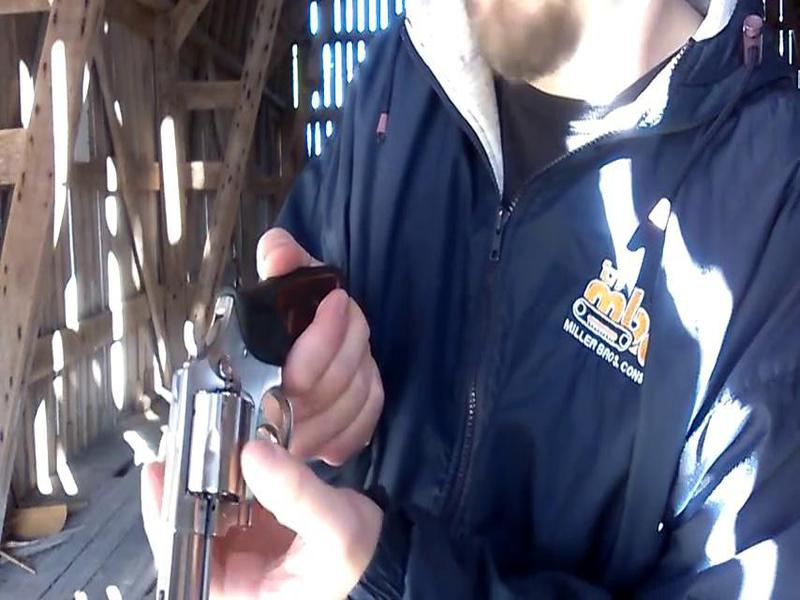Revolver: (135, 257, 345, 592)
